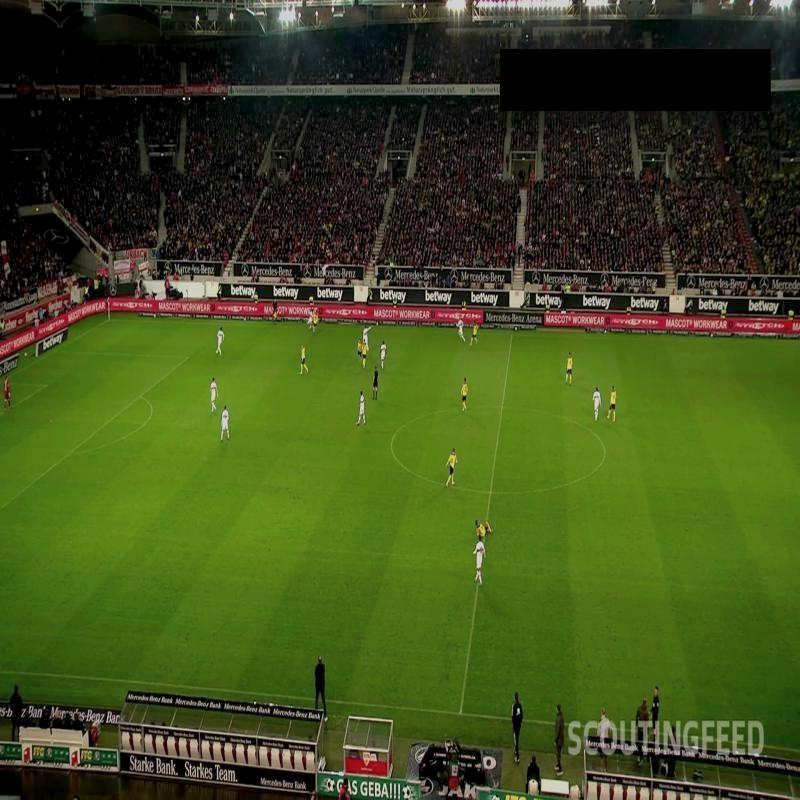1: (104, 312, 118, 326)
10: (134, 387, 148, 401)
11: (64, 444, 77, 458)
13: (505, 328, 519, 342)
14: (496, 400, 510, 415)
15: (484, 486, 498, 500)
16: (451, 704, 470, 724)
2: (51, 341, 65, 355)
7: (40, 378, 54, 392)
9: (182, 349, 196, 363)
c: (383, 431, 399, 450), (598, 446, 612, 460)
